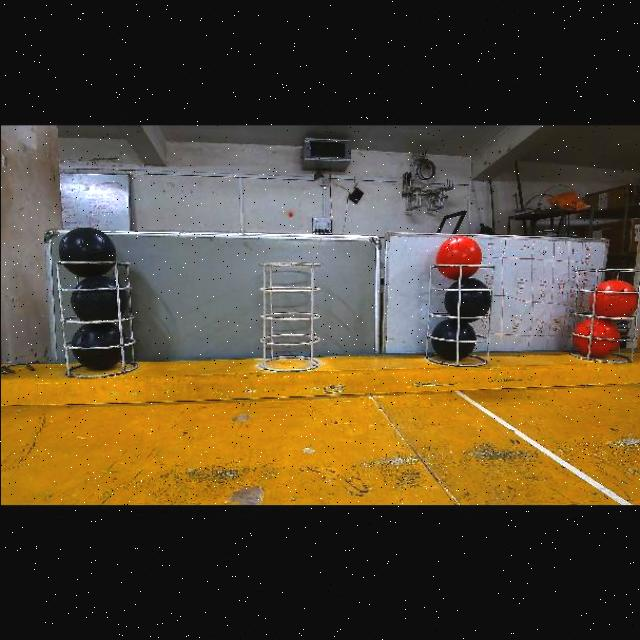P: (59, 227, 115, 276), (70, 322, 121, 370), (69, 275, 118, 321), (444, 276, 492, 321), (431, 317, 476, 361)
R: (435, 235, 482, 279), (573, 317, 621, 357), (589, 279, 638, 317)
S: (55, 258, 133, 378), (432, 264, 496, 370), (572, 267, 638, 367), (257, 260, 309, 370)
